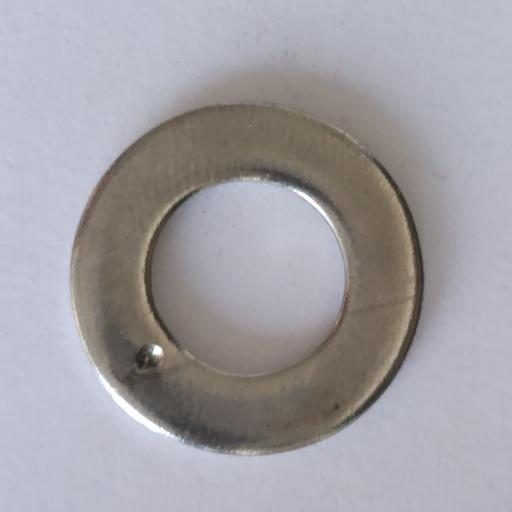circular_cavity: (135, 342, 164, 372)
